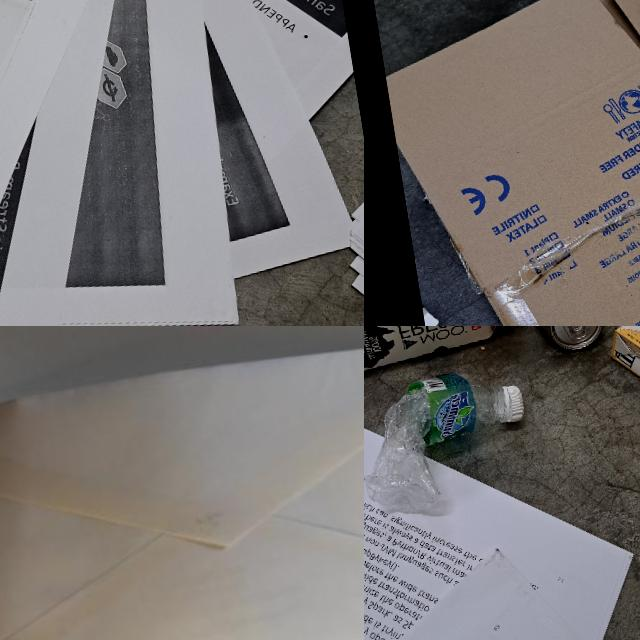aba de lata: (568, 326, 589, 342)
caixinha: (364, 326, 529, 396)
garrafa plástica: (364, 367, 516, 518)
lata: (512, 326, 607, 358)
papel: (0, 0, 364, 326), (0, 326, 364, 640), (364, 368, 640, 640), (364, 532, 640, 640), (414, 250, 519, 326)
papelão: (366, 0, 640, 326)
tampa plástica: (501, 384, 527, 424)
